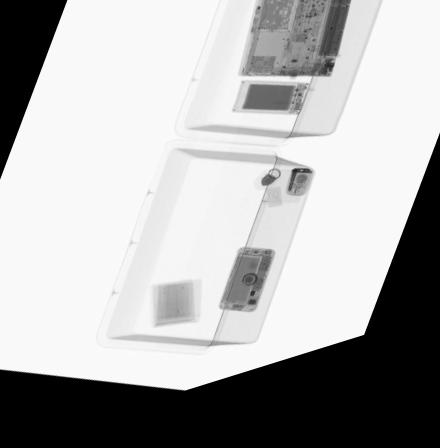Powerbank: (231, 96, 309, 133)
